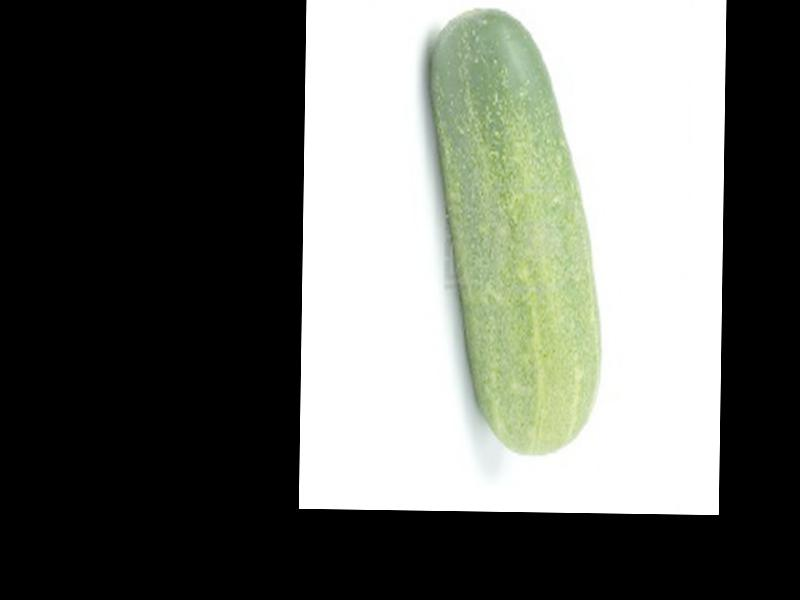Cucumber: (423, 9, 605, 456)
